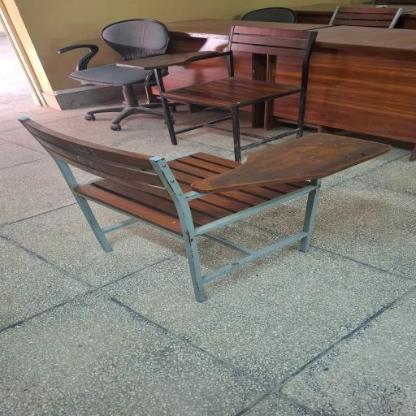chair: (11, 102, 400, 308), (119, 18, 319, 151), (54, 11, 176, 130)
